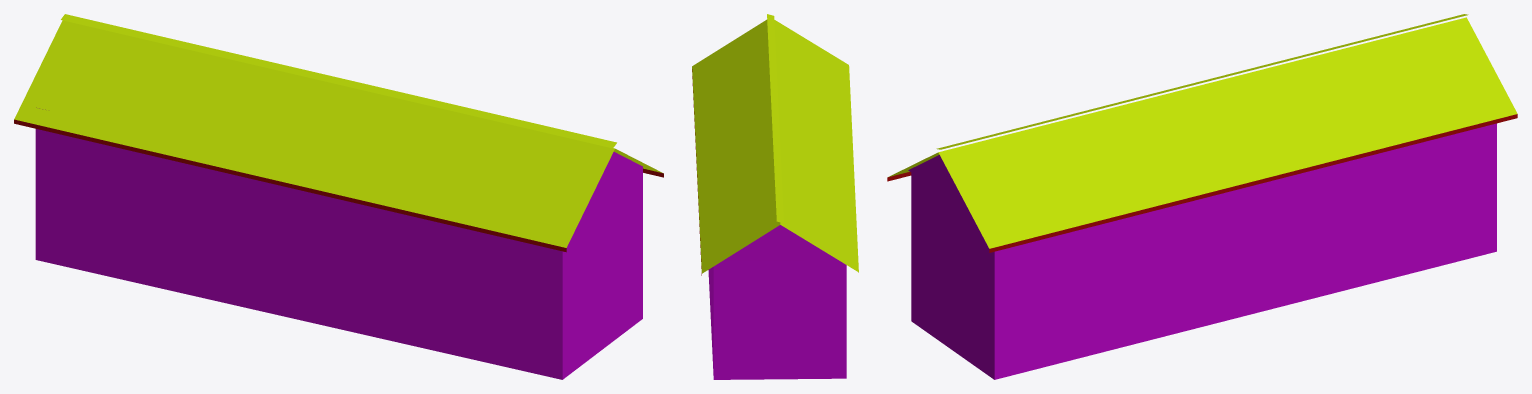
The model's file is niv_51.glb.
The picture shows the model from 3 angles, left to right: view 1: azimuth 30°, elevation 25°; view 2: azimuth 150°, elevation 25°; view 3: azimuth 270°, elevation 25°; orthographic projection. The views are drawn at different scales.
Parts seen in each view (by area): view 1: niv_51; view 2: niv_51; view 3: niv_51.
Part boxes in pixels (left/top/right/bottom): niv_51: left=14, top=14, right=663, bottom=379; niv_51: left=692, top=14, right=858, bottom=379; niv_51: left=887, top=14, right=1517, bottom=379.
Size of the model in its own units: 12.88 by 5.96 by 16.63.
